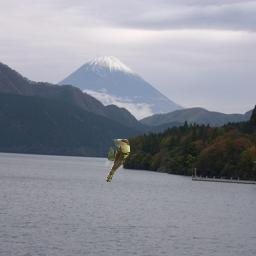Cuckoo: (106, 139, 130, 183)
